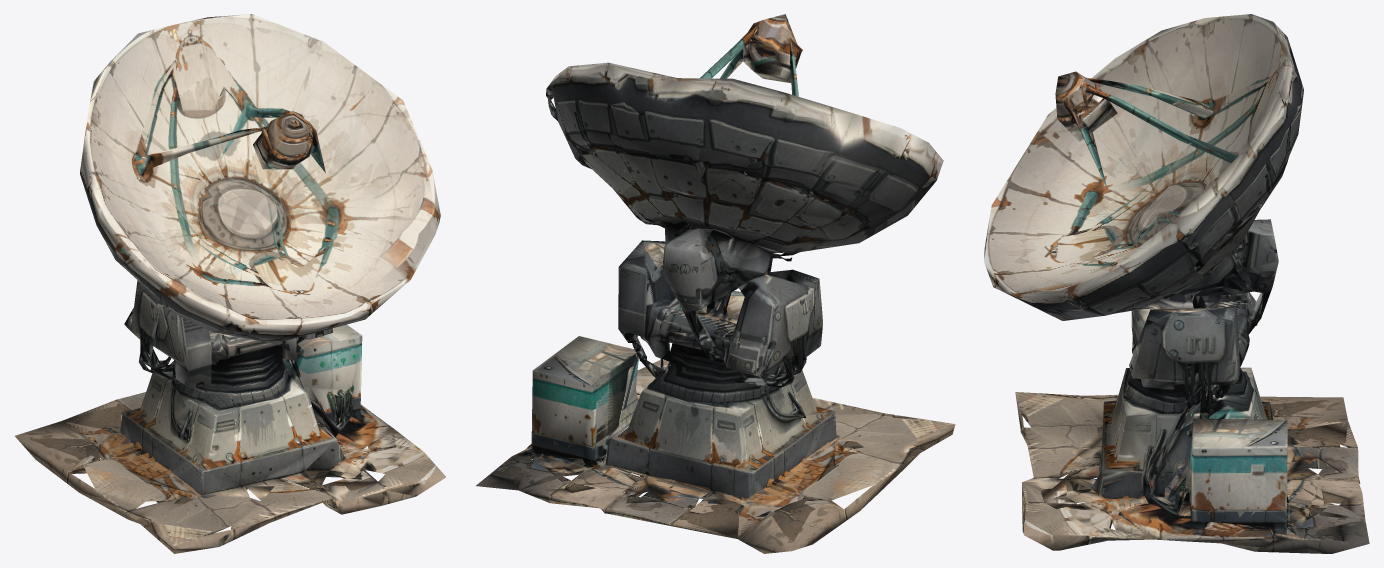
The model's file is EX_Lab_SatDish.fbx.
The picture shows the model from 3 angles, left to right: view 1: azimuth 30°, elevation 25°; view 2: azimuth 150°, elevation 25°; view 3: azimuth 270°, elevation 25°; orthographic projection. The views are drawn at different scales.
Visible parts, largest first — view 1: texture_mapping; view 2: texture_mapping; view 3: texture_mapping.
Boxes of the visible parts, <box> form: texture_mapping: <box>15,14,445,553</box>; texture_mapping: <box>476,14,955,553</box>; texture_mapping: <box>984,14,1369,553</box>.
Bounding box in the file's own units: 0.8273 × 0.8017 × 0.9914.
1 material, 1 textured.
